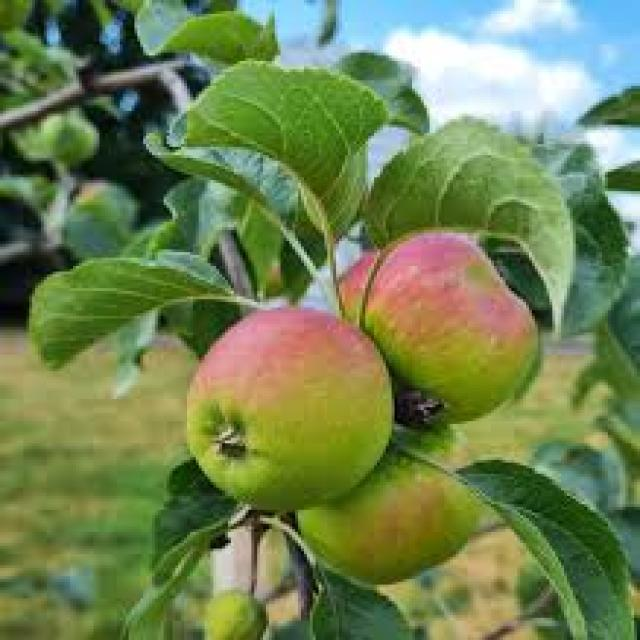Apple: (182, 302, 396, 510), (324, 230, 538, 437)
